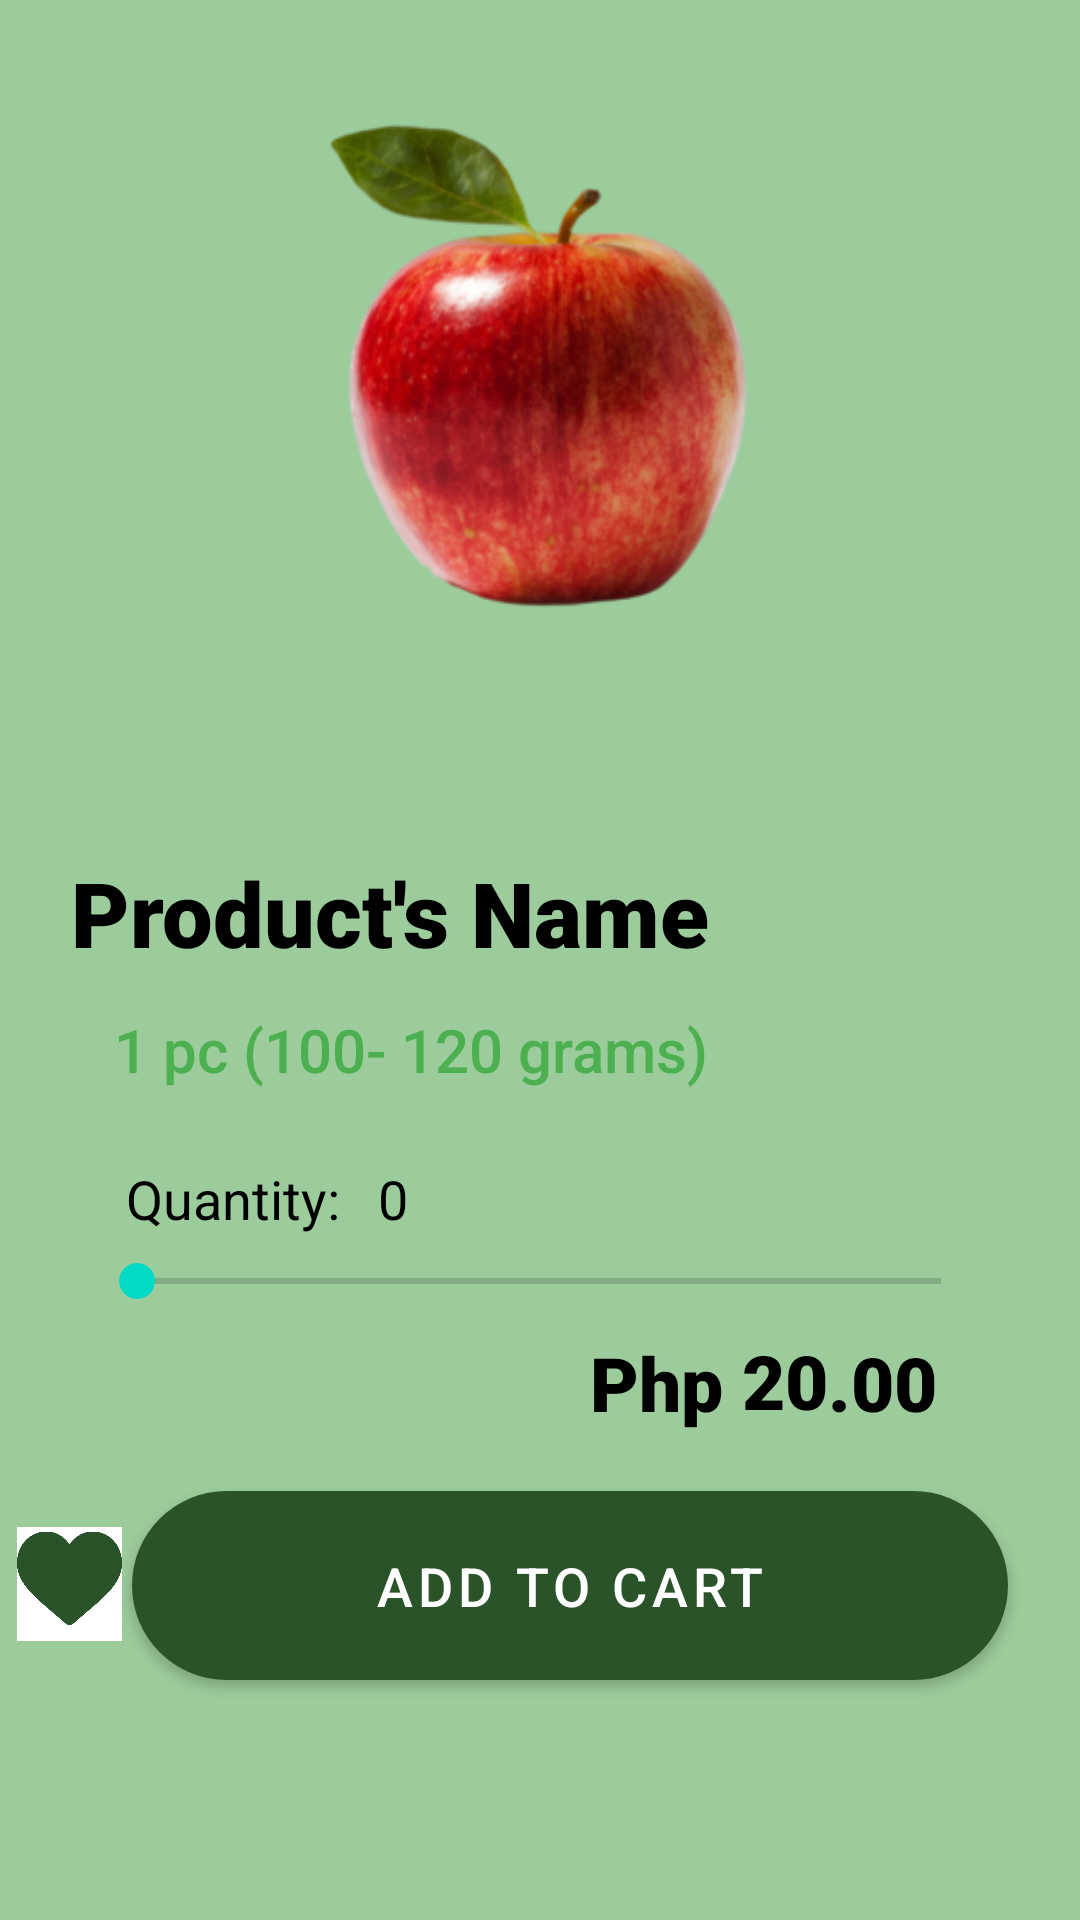

Icons on this 1080*1920 Android screen, each with the point to tap as (x,y):
heart: (69,1584)
